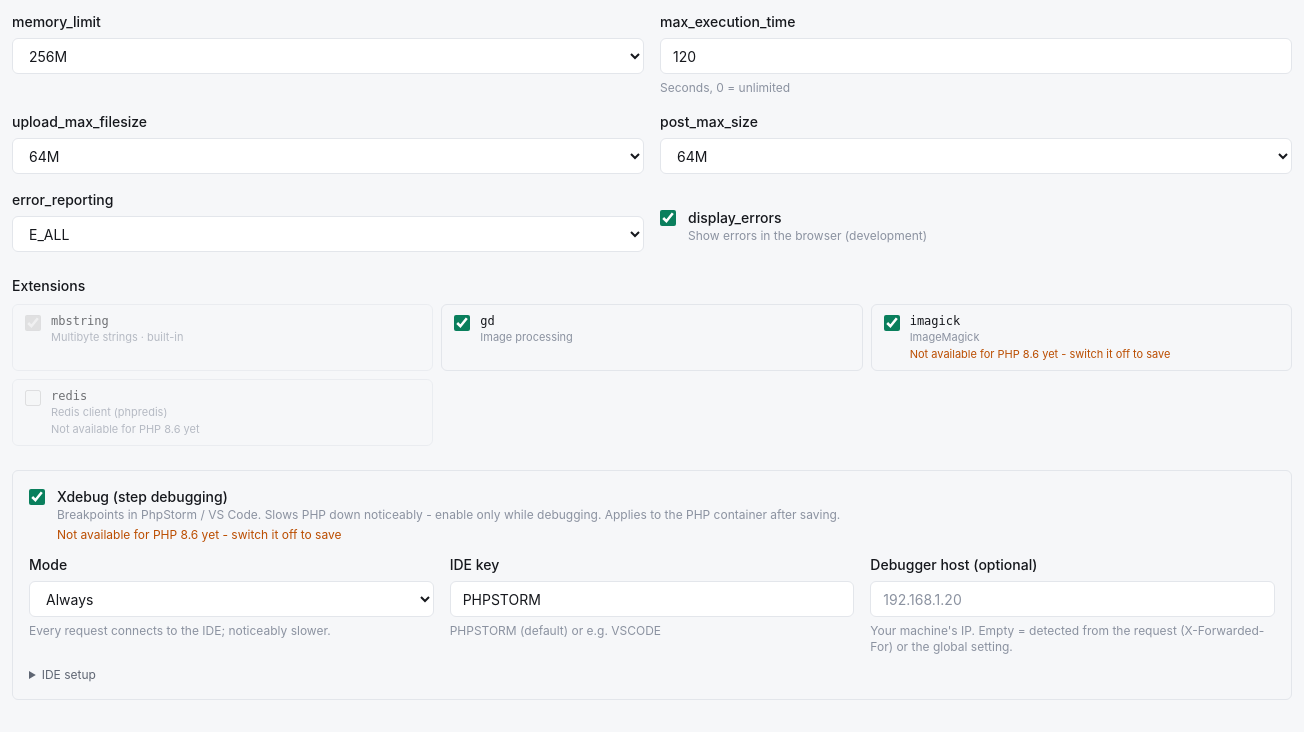
Test case: PhpConfigForm › keeps what is still on switchable so it can be switched off
The width and height of the screenshot is (1304, 732).
Expected: the text "Not available for PHP 8.6 yet - switch it off to save" is shown 2 times, [910,346,1170,362]; [57,527,342,542]
Click the 4th checkbox at (892, 323), box [884,315,900,331]
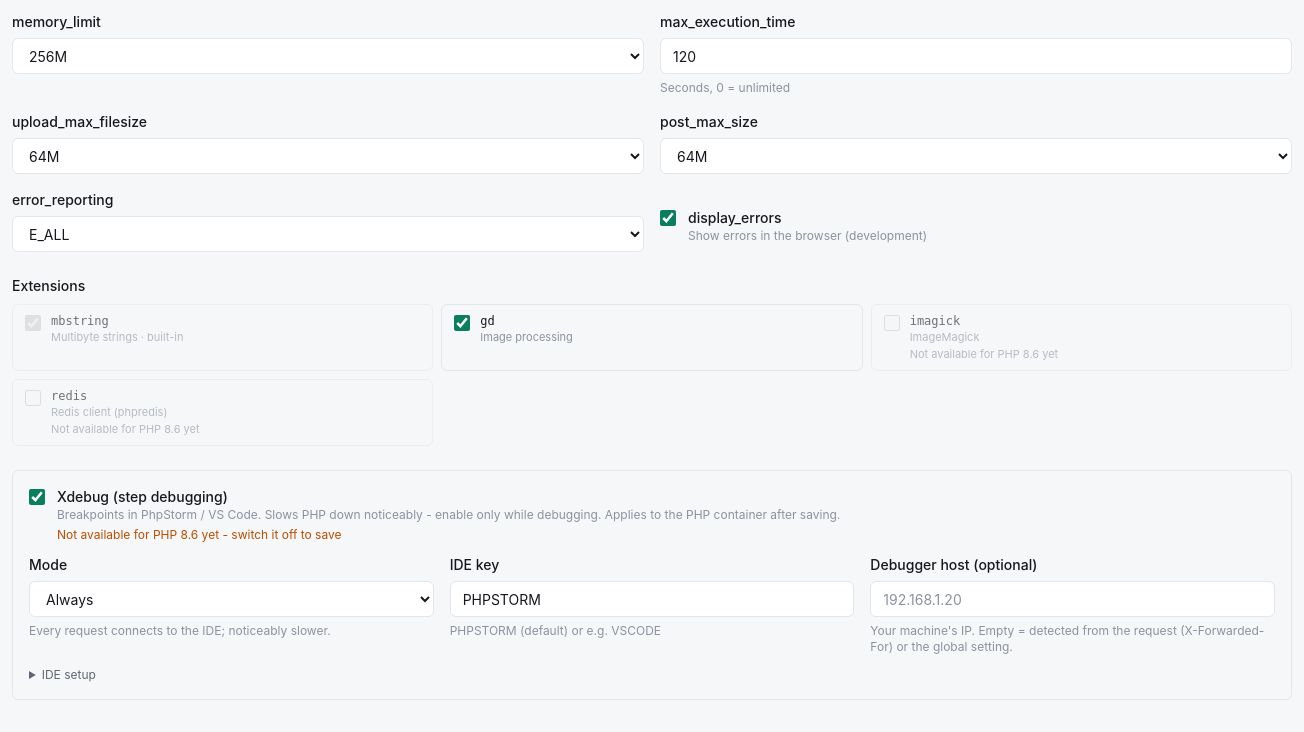
Expected: the checkbox labelled "imagick ImageMagick Not available for PHP 8.6 yet" is disabled, [884,315,900,331]
Click the checkbox labelled "Xdebug" at (37, 497), box [29,489,45,505]
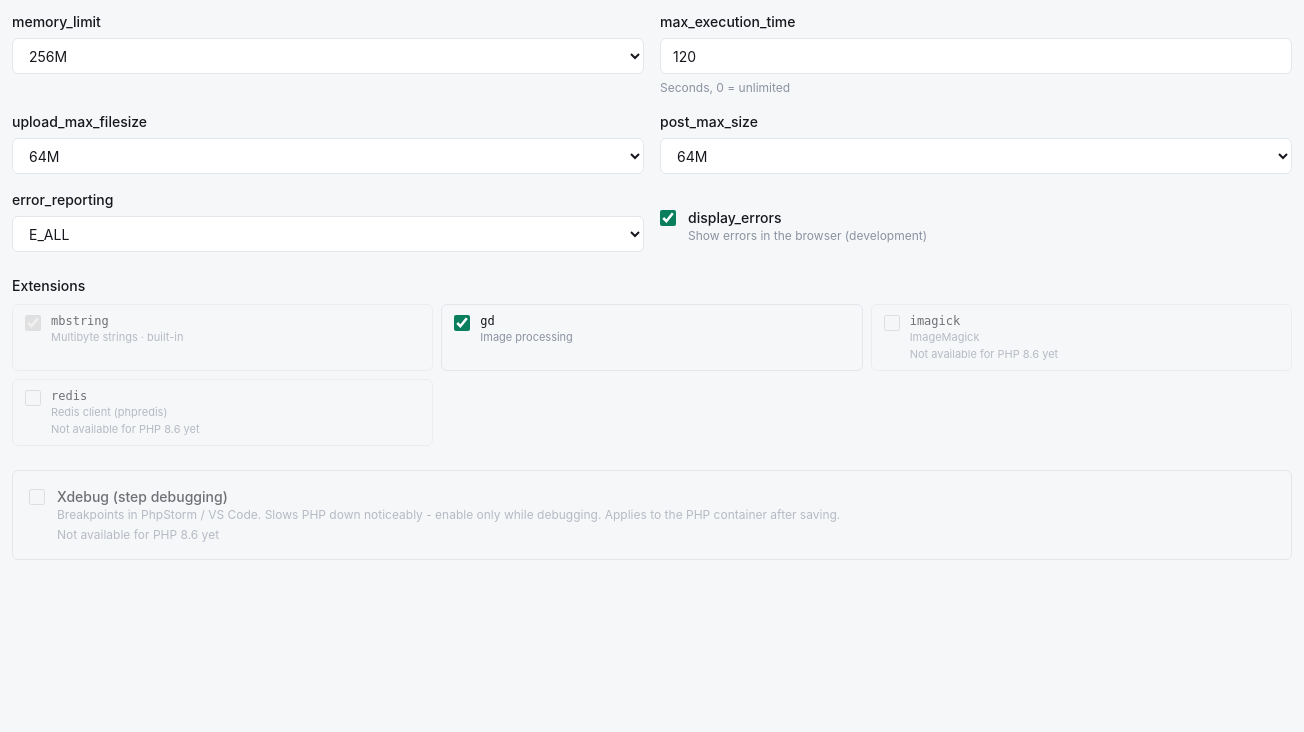
Expected: the checkbox labelled "Xdebug" is disabled, [29,489,45,505]
